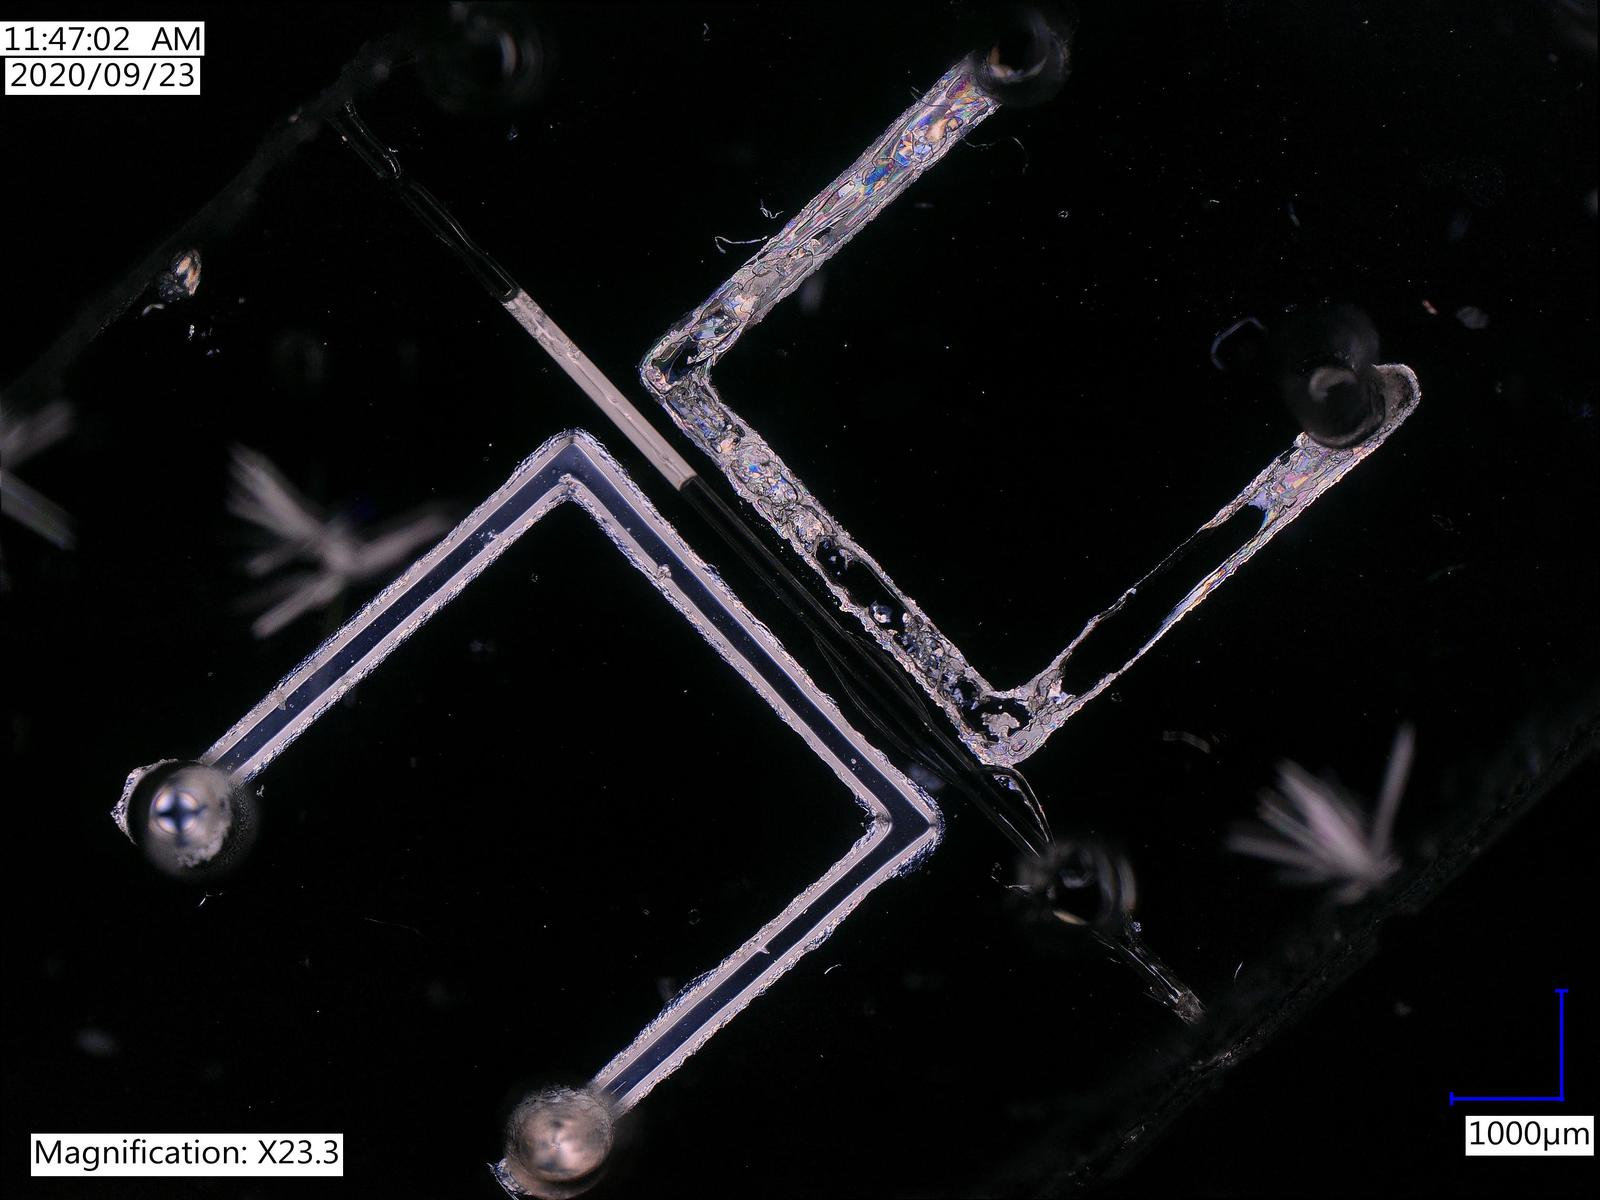sediment: (901, 623, 964, 691), (664, 378, 722, 425), (1029, 664, 1065, 727), (758, 495, 816, 522), (976, 713, 1020, 736)
